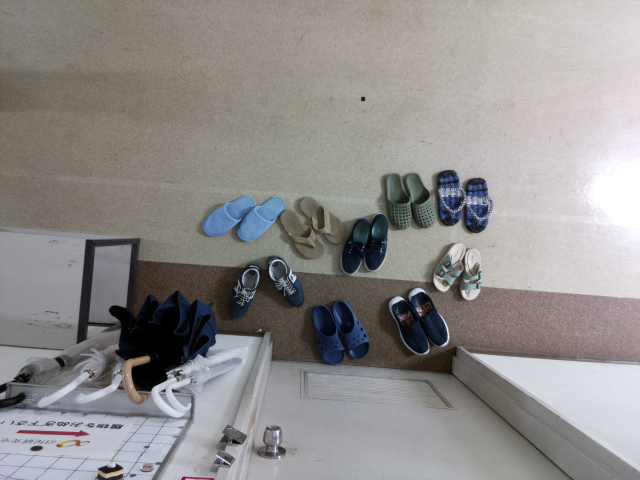Copy of Copy of Copy of Copy of Copy of Copy of Copy of Copy of Copy of Copy of: (403, 286, 454, 354), (383, 294, 434, 361), (323, 296, 371, 362), (219, 257, 266, 323), (264, 252, 311, 318), (301, 300, 348, 366), (424, 232, 468, 295), (455, 240, 487, 313)
Copy of Copy of Copy of Copy of Copy of Copy of Copy of Copy of Copy of shoe: (194, 188, 257, 240)
Copy of Copy of Copy of Copy of Copy of Copy of Copy of Copy of shoe: (234, 188, 288, 251)
Copy of Copy of Copy of Copy of Copy of Copy of Copy of shoe: (276, 204, 329, 266)
Copy of Copy of Copy of Copy of Copy of Copy of shoe: (296, 191, 350, 251)
Copy of Copy of Copy of Copy of Copy of shoe: (337, 213, 373, 281)
Copy of Copy of Copy of Copy of shoe: (359, 210, 393, 277)
Copy of Copy of Copy of Copy of umbrella: (1, 319, 121, 412)
Copy of Copy of Copy of shoe: (381, 167, 415, 235)
Copy of Copy of Copy of umbrella: (37, 334, 124, 416)
Copy of Copy of shoe: (402, 167, 436, 235)
Copy of Copy of umbrella: (75, 351, 126, 413)
Copy of shoe: (432, 162, 465, 230)
Copy of umbrella: (104, 302, 211, 407)
shoe: (460, 170, 494, 238)
umbrella: (149, 341, 253, 424)
